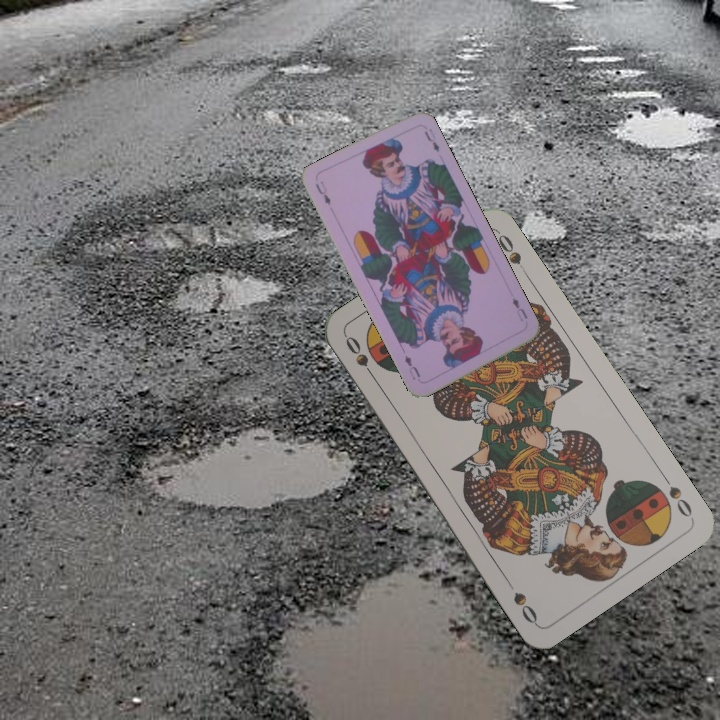EU: (508, 293, 530, 324), (311, 177, 333, 208)
SO: (341, 332, 380, 385), (657, 469, 695, 521)
